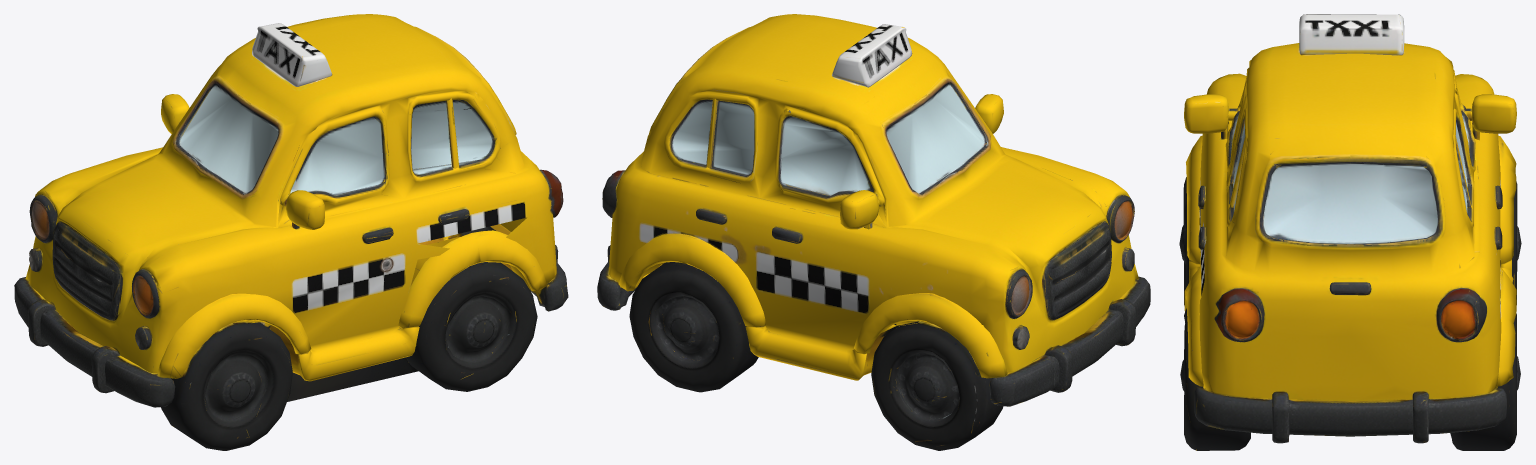
Rendered from trafficTaxi.0857a745.glb.
3 views of the same model, side by side, from view 1: azimuth 30°, elevation 25°; view 2: azimuth 150°, elevation 25°; view 3: azimuth 270°, elevation 25° (orthographic). The views are drawn at different scales.
Size of the model in its own units: 0.9531 by 0.6465 by 0.5532.
1 material, 1 textured.
